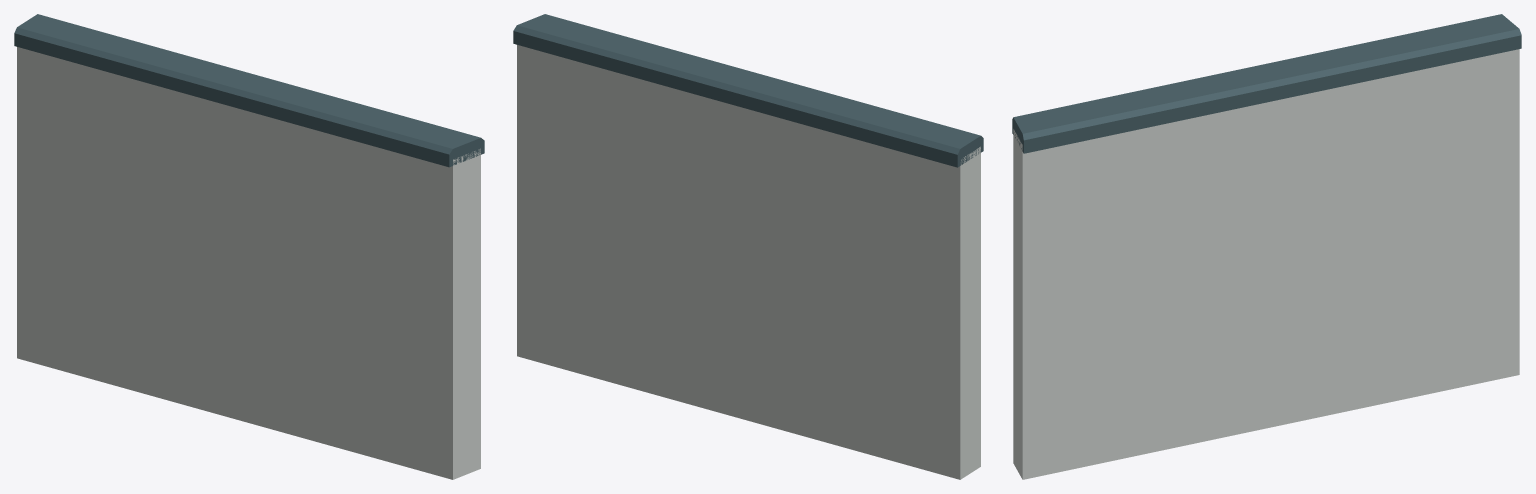
The model's file is halfwall_26_starboard_miter_10000_2361_8944_4472.glb.
3 renders of one model, left to right at view 1: azimuth 30°, elevation 25°; view 2: azimuth 210°, elevation 25°; view 3: azimuth 270°, elevation 25°, orthographic. The views are drawn at different scales.
Visible parts, largest first — view 1: Seamless solid halfwall.053, Seamless top cap.053; view 2: Seamless solid halfwall.053, Seamless top cap.053; view 3: Seamless solid halfwall.053, Seamless top cap.053.
Part boxes in pixels (left/top/right/bottom): Seamless solid halfwall.053: left=17, top=47, right=480, bottom=479; Seamless top cap.053: left=14, top=14, right=484, bottom=167; Seamless solid halfwall.053: left=517, top=45, right=980, bottom=479; Seamless top cap.053: left=513, top=14, right=983, bottom=167; Seamless solid halfwall.053: left=1013, top=49, right=1519, bottom=479; Seamless top cap.053: left=1012, top=14, right=1521, bottom=153.
Size of the model in its own units: 0.5947 by 0.775 by 1.03.
